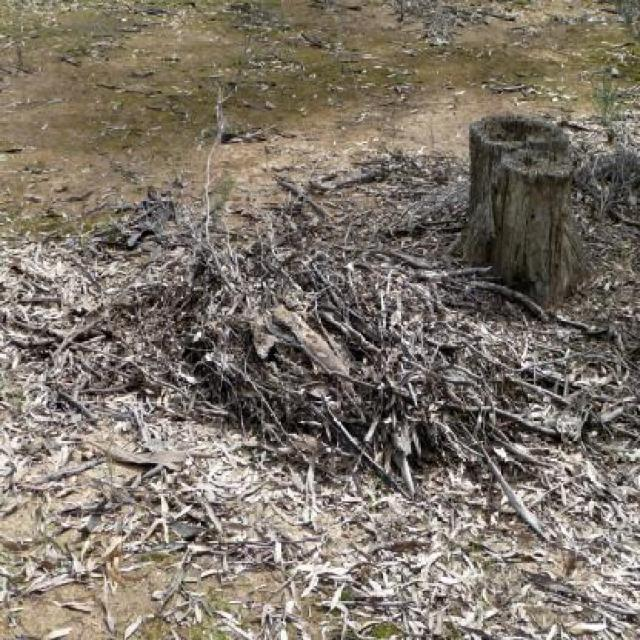garbage: (0, 211, 639, 640)
